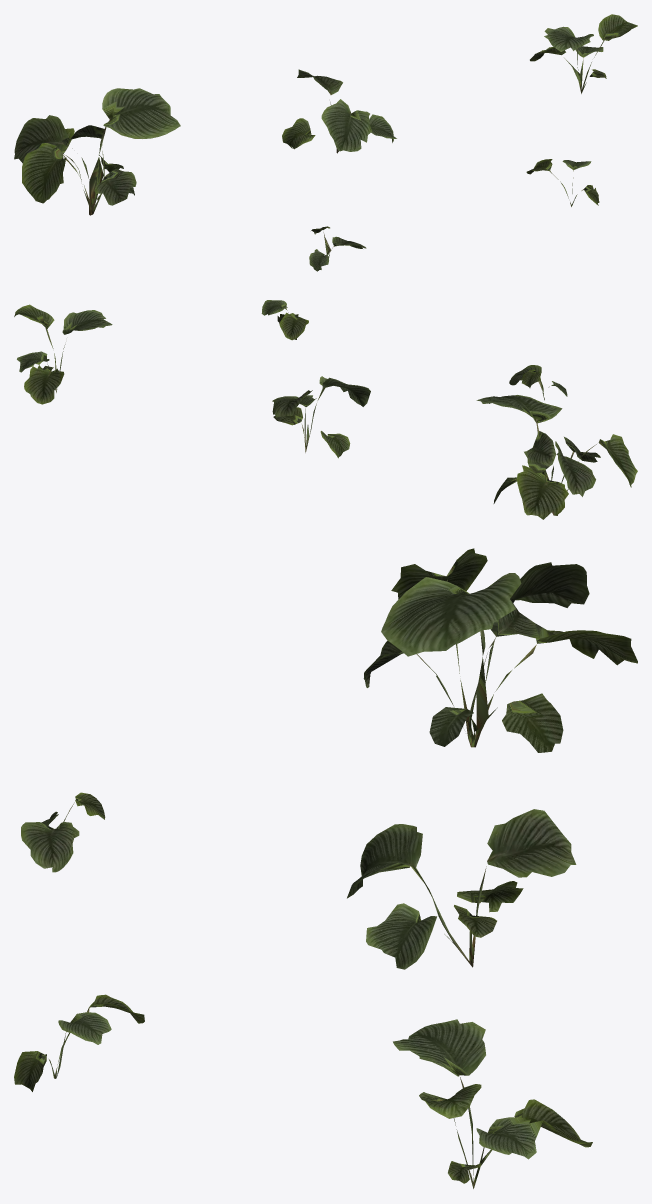
The model's file is calathea_orbifolia_01_lod1.glb.
3 renders of one model, top to bottom at view 1: azimuth 30°, elevation 25°; view 2: azimuth 150°, elevation 25°; view 3: azimuth 270°, elevation 25°, orthographic. The views are drawn at different scales.
Parts seen in each view (by area): view 1: calathea_orbifolia_01_a, calathea_orbifolia_01_b, calathea_orbifolia_01_c, calathea_orbifolia_01_d, calathea_orbifolia_01_e; view 2: calathea_orbifolia_01_a, calathea_orbifolia_01_c, calathea_orbifolia_01_b, calathea_orbifolia_01_e, calathea_orbifolia_01_d; view 3: calathea_orbifolia_01_a, calathea_orbifolia_01_b, calathea_orbifolia_01_c, calathea_orbifolia_01_e, calathea_orbifolia_01_d.
Boxes of the visible parts, x1=… form: calathea_orbifolia_01_a: x1=14, y1=88, x2=180, y2=215; calathea_orbifolia_01_b: x1=282, y1=69, x2=396, y2=153; calathea_orbifolia_01_c: x1=530, y1=14, x2=637, y2=93; calathea_orbifolia_01_d: x1=309, y1=226, x2=366, y2=271; calathea_orbifolia_01_e: x1=526, y1=159, x2=599, y2=206; calathea_orbifolia_01_a: x1=476, y1=395, x2=637, y2=519; calathea_orbifolia_01_c: x1=14, y1=304, x2=112, y2=404; calathea_orbifolia_01_b: x1=272, y1=376, x2=370, y2=458; calathea_orbifolia_01_e: x1=261, y1=300, x2=308, y2=340; calathea_orbifolia_01_d: x1=509, y1=365, x2=567, y2=400; calathea_orbifolia_01_a: x1=363, y1=548, x2=637, y2=752; calathea_orbifolia_01_b: x1=347, y1=809, x2=576, y2=969; calathea_orbifolia_01_c: x1=393, y1=1019, x2=592, y2=1188; calathea_orbifolia_01_e: x1=14, y1=994, x2=144, y2=1091; calathea_orbifolia_01_d: x1=21, y1=792, x2=105, y2=872.
Bounding box in the file's own units: 2.49 × 0.4224 × 1.19.
Materials: 1 (1 with a texture image).
